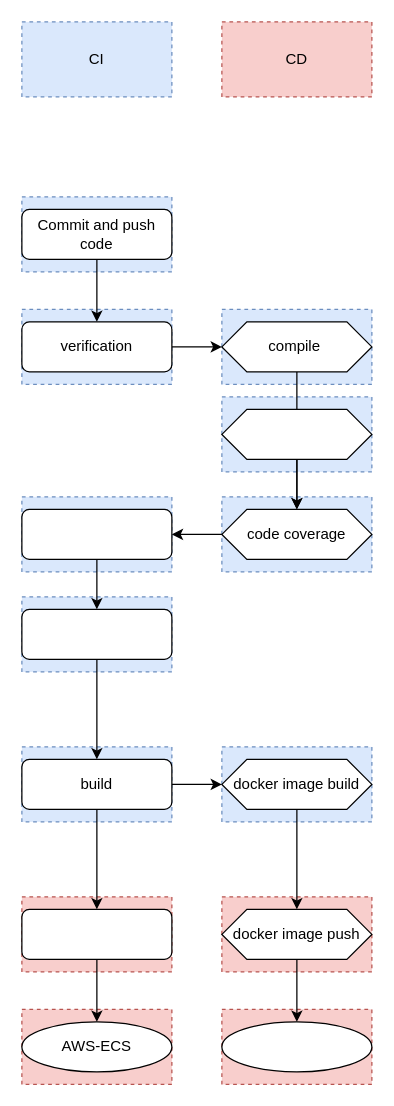
This 394x1106 diagram has some shape labels left out. The centre of each missing label's shape, as x and y in pixels:
AWS-ECR: [296,1046]
deploy: [96,933]
merge: [96,633]
review: [96,533]
test: [296,433]
